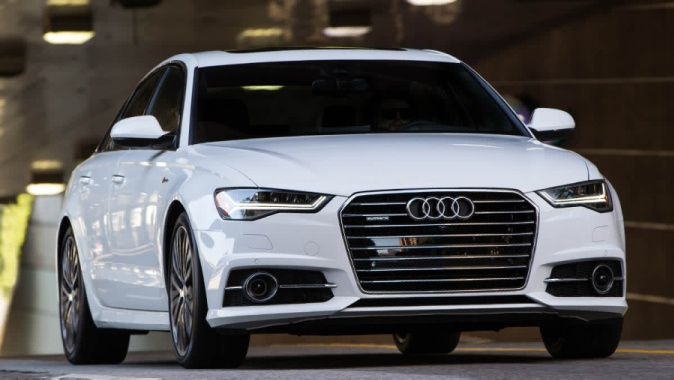audi: (401, 193, 483, 228)
